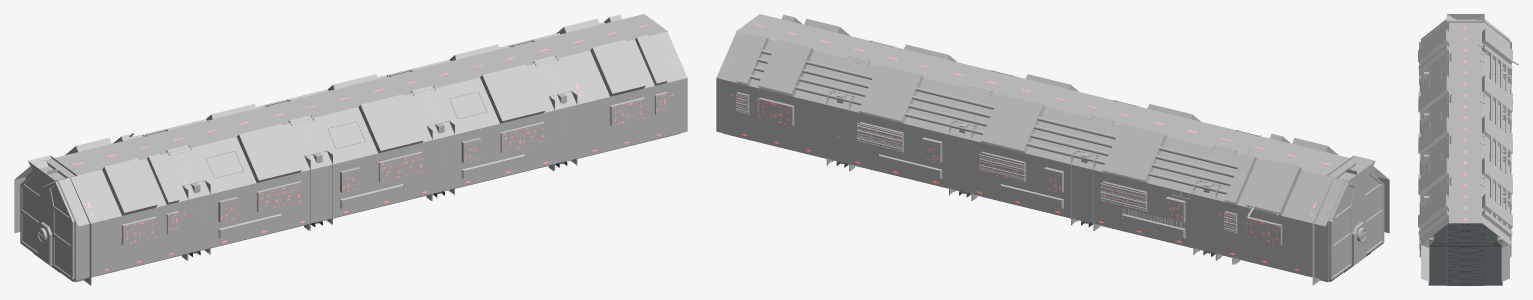
Rendered from Corri_suite.fbx.
3 views of the same model, side by side, from view 1: azimuth 30°, elevation 25°; view 2: azimuth 150°, elevation 25°; view 3: azimuth 270°, elevation 25° (orthographic). The views are drawn at different scales.
Parts seen in each view (by area): view 1: Mur.005, Mur, Mur.002, Cube.007, Cube.006, Details_centre.002, Cube.004, Mur.003, Sol.001, Tuyau.016, Cube.005; view 2: Mur.005, Mur, Mur.002, Tuyau.016, Cube.006, Cube.007, Details_centre.002, Cube.004, Mur.003, Sol.001, Cube.005; view 3: Mur.002, Mur.005, Mur, Sol.001, Tuyau.016, Details_centre.002, Mur.003, Cube.005, Cube.001, Cube.004.
Part boxes in pixels (x1,y1,x2,y2): Mur.005: (180,44,564,250); Mur: (14,14,687,279); Mur.002: (45,14,667,177); Cube.007: (43,181,75,279); Cube.006: (20,173,46,260); Details_centre.002: (182,91,577,260); Cube.004: (25,162,91,285); Mur.003: (142,40,565,196); Sol.001: (20,133,680,281); Tuyau.016: (133,22,604,138); Cube.005: (28,155,76,186); Mur.005: (839,44,1223,250); Mur: (716,14,1389,279); Mur.002: (736,14,1358,177); Tuyau.016: (750,47,1238,194); Cube.006: (1329,182,1360,279); Cube.007: (1358,172,1384,260); Details_centre.002: (826,91,1221,260); Cube.004: (1312,162,1378,285); Mur.003: (837,40,1260,196); Sol.001: (723,133,1383,281); Cube.005: (1326,155,1375,187); Mur.002: (1449,20,1481,223); Mur.005: (1418,58,1512,213); Mur: (1418,17,1512,281); Sol.001: (1428,223,1502,285); Tuyau.016: (1490,54,1507,227); Details_centre.002: (1421,69,1509,248); Mur.003: (1429,53,1499,197); Cube.005: (1446,14,1484,22); Cube.001: (1429,242,1501,246); Cube.004: (1419,19,1511,84).
Bounding box in the file's own units: 5560 × 870 × 1137.
